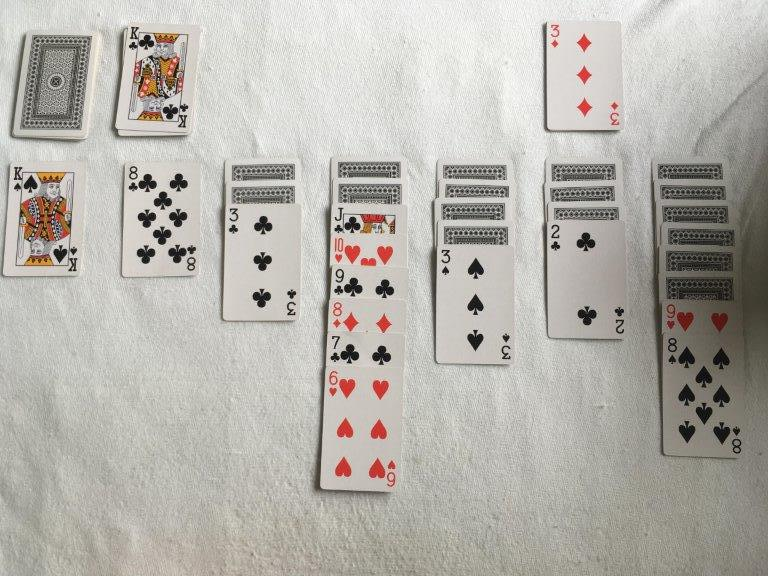10H: (331, 234, 347, 263)
2C: (548, 220, 562, 252)
3C: (226, 204, 244, 238)
3D: (548, 20, 563, 51)
3S: (438, 245, 454, 278)
6H: (326, 366, 340, 399)
7C: (328, 332, 342, 364)
8C: (126, 163, 139, 194)
8D: (330, 298, 345, 329)
8S: (665, 333, 682, 370)
9C: (332, 264, 347, 295)
9H: (664, 299, 677, 333)
BACK: (12, 28, 100, 140), (657, 270, 741, 301), (658, 243, 740, 271), (331, 176, 408, 203), (654, 198, 736, 222), (437, 220, 515, 245), (661, 221, 742, 245), (544, 156, 624, 180), (434, 196, 513, 219), (226, 179, 301, 203), (224, 157, 302, 180), (653, 177, 734, 199), (651, 157, 730, 179), (543, 179, 624, 200), (330, 155, 408, 176), (436, 158, 514, 179), (547, 200, 628, 220), (438, 177, 517, 196)
JC: (332, 203, 346, 234)
KC: (126, 24, 143, 53)
KS: (10, 162, 26, 195)
